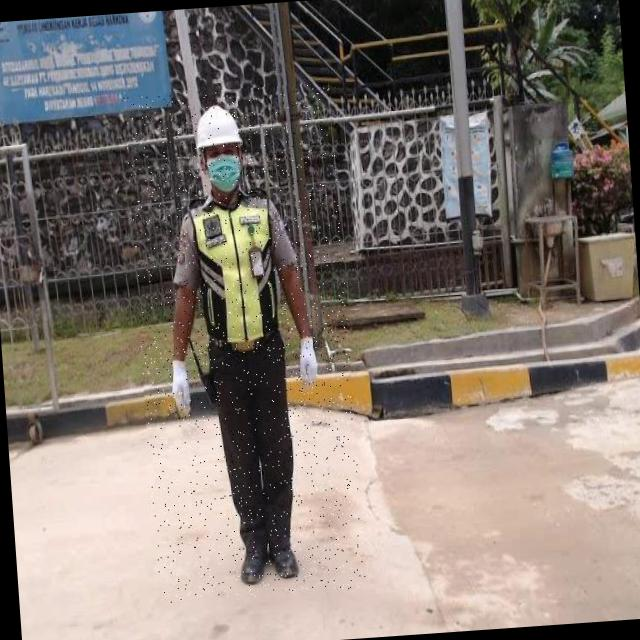hard_hat: (193, 96, 252, 156)
safety_vest: (190, 186, 292, 350)
vehicle: (124, 82, 366, 604)
work_boots: (270, 535, 304, 588), (238, 543, 274, 590)
